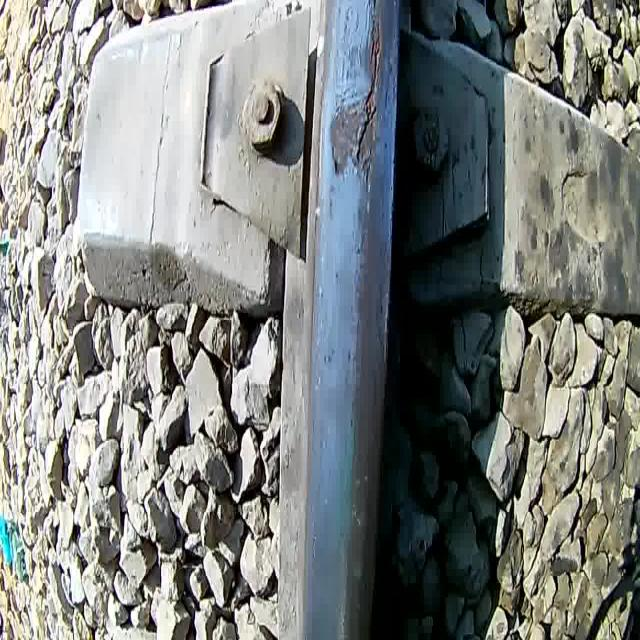Cracks: (354, 10, 384, 193)
Squats: (321, 0, 394, 201)
